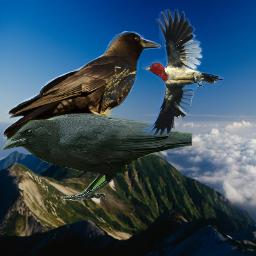Crow: (3, 28, 163, 150), (1, 113, 193, 203)
Woodpecker: (142, 9, 224, 137)
